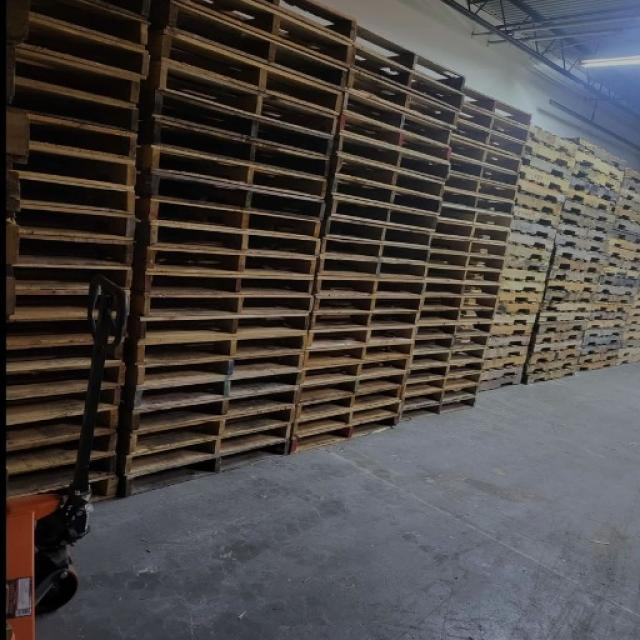non-igps: (151, 27, 348, 124), (160, 0, 351, 98), (148, 52, 342, 144), (146, 84, 338, 166), (144, 110, 333, 188), (170, 0, 358, 75), (142, 140, 332, 207), (119, 420, 298, 487), (119, 434, 294, 502), (0, 10, 156, 86), (123, 395, 301, 461), (145, 166, 330, 226), (0, 41, 148, 115), (0, 76, 146, 145), (127, 380, 303, 435), (350, 20, 468, 100), (143, 195, 325, 245), (0, 106, 142, 170), (129, 366, 307, 416), (348, 42, 468, 116), (130, 324, 311, 372), (143, 215, 325, 262), (133, 348, 310, 396), (0, 141, 143, 200), (138, 240, 322, 285), (0, 0, 156, 52), (345, 65, 461, 132), (130, 311, 316, 352), (0, 197, 142, 250), (0, 170, 139, 224), (339, 88, 455, 150), (0, 467, 123, 524), (138, 266, 320, 304), (338, 108, 453, 168), (329, 148, 447, 206), (334, 129, 453, 186), (0, 400, 129, 451), (0, 228, 140, 274), (134, 289, 318, 324), (0, 451, 126, 502), (1, 384, 135, 429), (0, 430, 127, 476), (248, 0, 362, 51), (287, 409, 402, 459), (1, 358, 134, 401), (329, 172, 445, 220), (289, 396, 405, 444), (0, 334, 137, 374), (0, 260, 140, 298), (0, 311, 136, 350), (291, 382, 406, 428), (326, 193, 441, 235), (294, 368, 410, 409), (322, 211, 435, 253), (0, 287, 134, 321), (301, 337, 418, 375), (298, 354, 414, 391), (316, 234, 433, 270), (456, 79, 534, 131), (317, 250, 431, 284), (303, 322, 419, 355), (307, 304, 422, 337), (454, 98, 533, 146), (448, 115, 528, 162), (312, 272, 429, 304), (310, 290, 427, 321), (447, 132, 524, 177), (446, 150, 522, 191), (442, 168, 522, 205), (558, 134, 630, 174), (64, 0, 162, 29), (429, 227, 510, 261), (436, 199, 516, 233), (397, 395, 479, 428), (441, 186, 518, 218), (434, 213, 513, 244), (398, 382, 482, 410), (572, 144, 628, 186), (398, 372, 486, 398), (522, 132, 578, 172), (568, 158, 624, 197), (566, 170, 622, 208), (405, 358, 489, 382), (561, 185, 618, 220), (559, 195, 618, 228), (526, 123, 580, 159), (427, 249, 507, 273), (425, 262, 505, 286), (551, 228, 611, 260), (411, 334, 495, 356), (517, 150, 573, 183), (516, 162, 572, 195), (511, 187, 564, 220), (408, 348, 490, 369), (423, 278, 503, 299), (552, 241, 612, 269), (516, 175, 568, 207), (556, 208, 616, 235), (524, 362, 584, 388), (505, 224, 556, 254), (553, 221, 611, 247), (510, 203, 562, 231), (550, 253, 606, 279), (523, 352, 581, 377), (418, 309, 498, 327), (506, 215, 560, 241), (500, 248, 550, 276), (419, 296, 504, 312), (503, 238, 553, 265), (474, 370, 525, 396), (527, 344, 584, 366), (480, 337, 530, 362), (548, 264, 602, 287), (546, 276, 602, 298), (414, 323, 496, 338), (535, 316, 590, 338), (538, 285, 594, 306), (535, 306, 592, 326), (530, 336, 584, 357), (499, 262, 548, 285), (484, 329, 533, 352), (478, 362, 526, 384), (536, 297, 594, 315), (479, 351, 528, 372), (533, 328, 587, 347), (492, 297, 540, 318), (496, 276, 546, 295), (495, 286, 545, 305), (575, 355, 624, 374), (576, 346, 620, 367), (578, 340, 624, 360), (490, 310, 538, 328), (488, 320, 536, 338), (578, 332, 626, 350), (609, 212, 640, 238), (605, 241, 640, 264), (604, 252, 640, 274), (594, 281, 640, 298), (601, 261, 640, 281), (601, 270, 640, 290), (605, 232, 640, 254), (594, 289, 636, 307), (611, 180, 640, 206), (606, 223, 640, 245), (590, 298, 634, 315), (610, 202, 640, 226), (613, 192, 640, 216), (581, 325, 627, 338), (588, 309, 631, 322), (586, 316, 628, 329), (616, 173, 640, 195), (619, 164, 640, 186), (615, 352, 640, 368), (616, 346, 640, 360), (618, 335, 640, 350), (620, 328, 640, 342), (621, 322, 640, 335), (624, 313, 640, 325), (626, 305, 640, 318), (629, 298, 640, 309), (631, 290, 640, 301)
